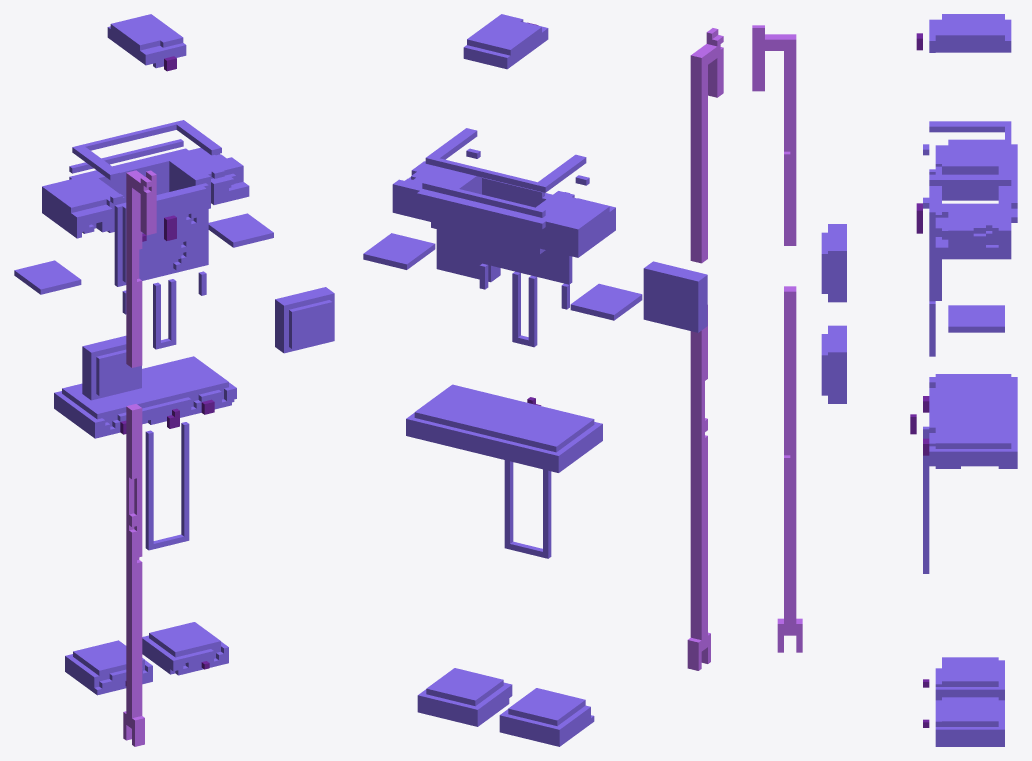
The model's file is Anubis_75-8.obj.
3 views of the same model, side by side, from view 1: azimuth 30°, elevation 25°; view 2: azimuth 150°, elevation 25°; view 3: azimuth 270°, elevation 25° (orthographic). The views are drawn at different scales.
Bounding box in the file's own units: 4.8 × 12 × 4.2.
Materials: 1 (1 with a texture image).
